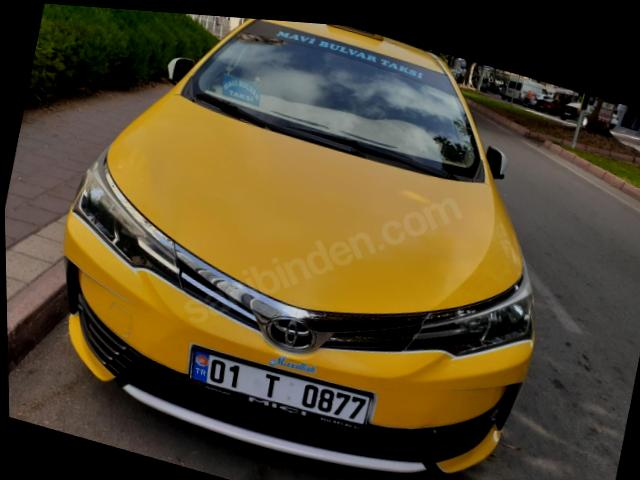plaka: (189, 347, 372, 428)
